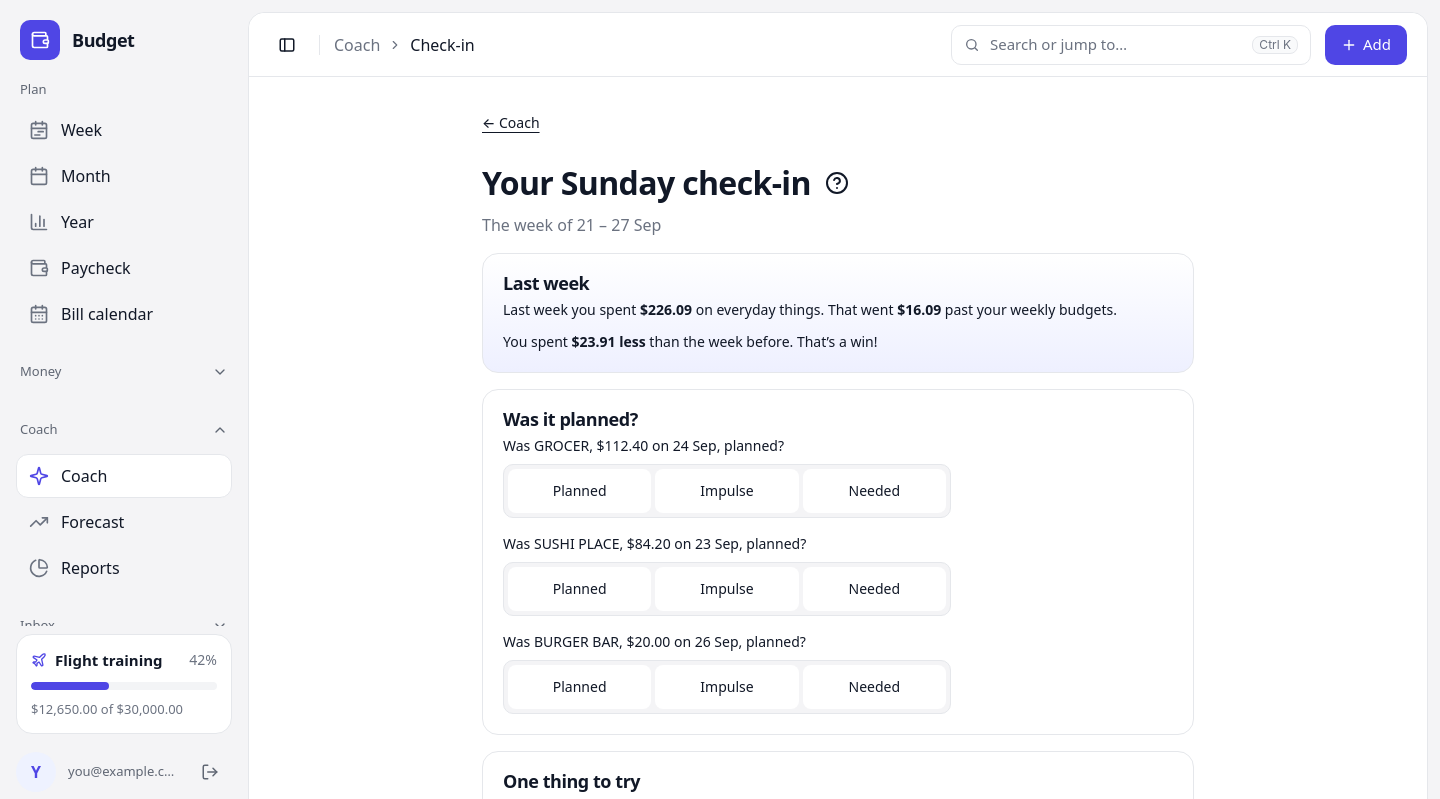
the Sunday check-in › keeps an answer, marks it chosen, and counts it in the impulse share
Click the button "Impulse" below "SUSHI PLACE" at (727, 589), box [655, 567, 799, 611]
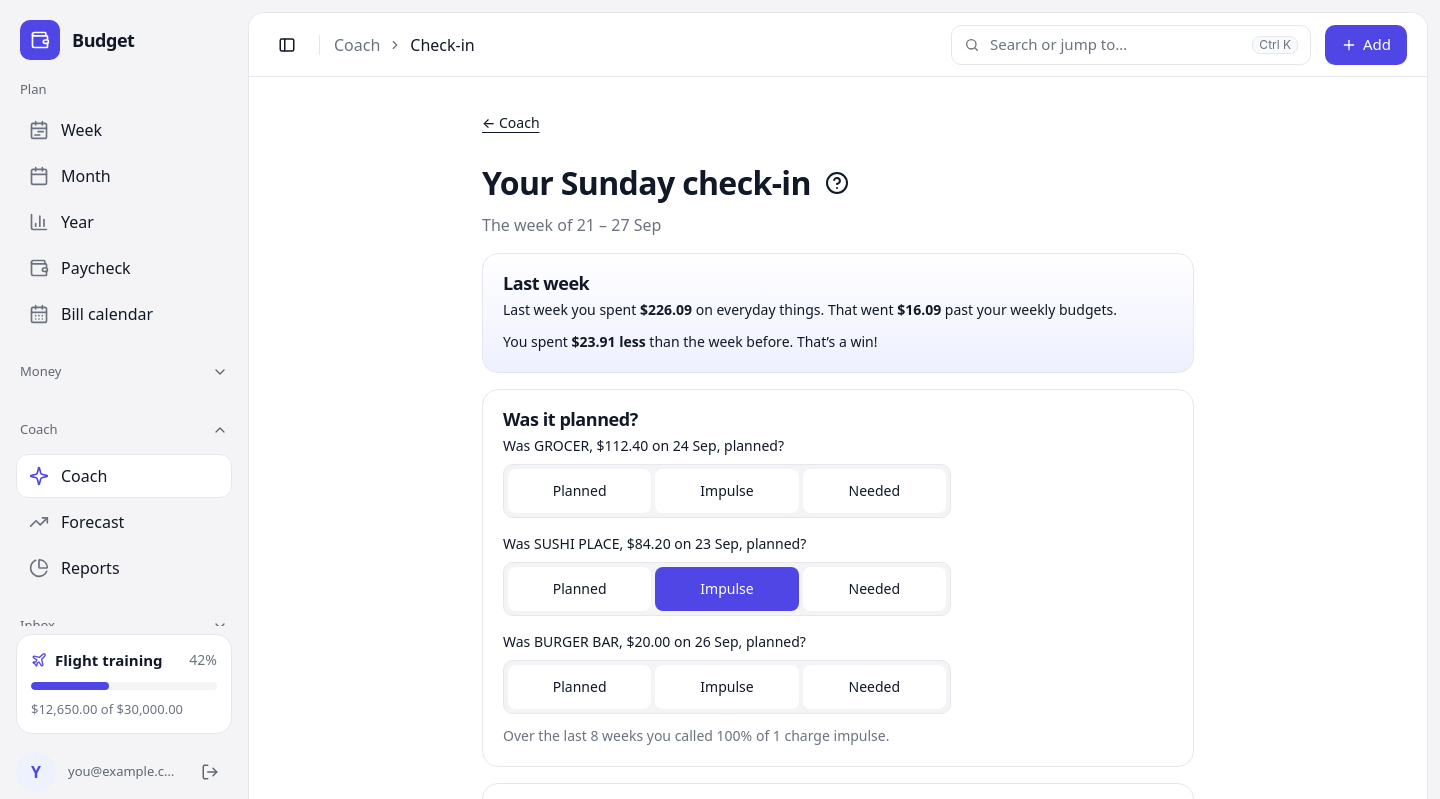
Expected: the text "Over the last 8 weeks you called 100% of 1 charge impulse." is shown, [503, 726, 890, 745]
